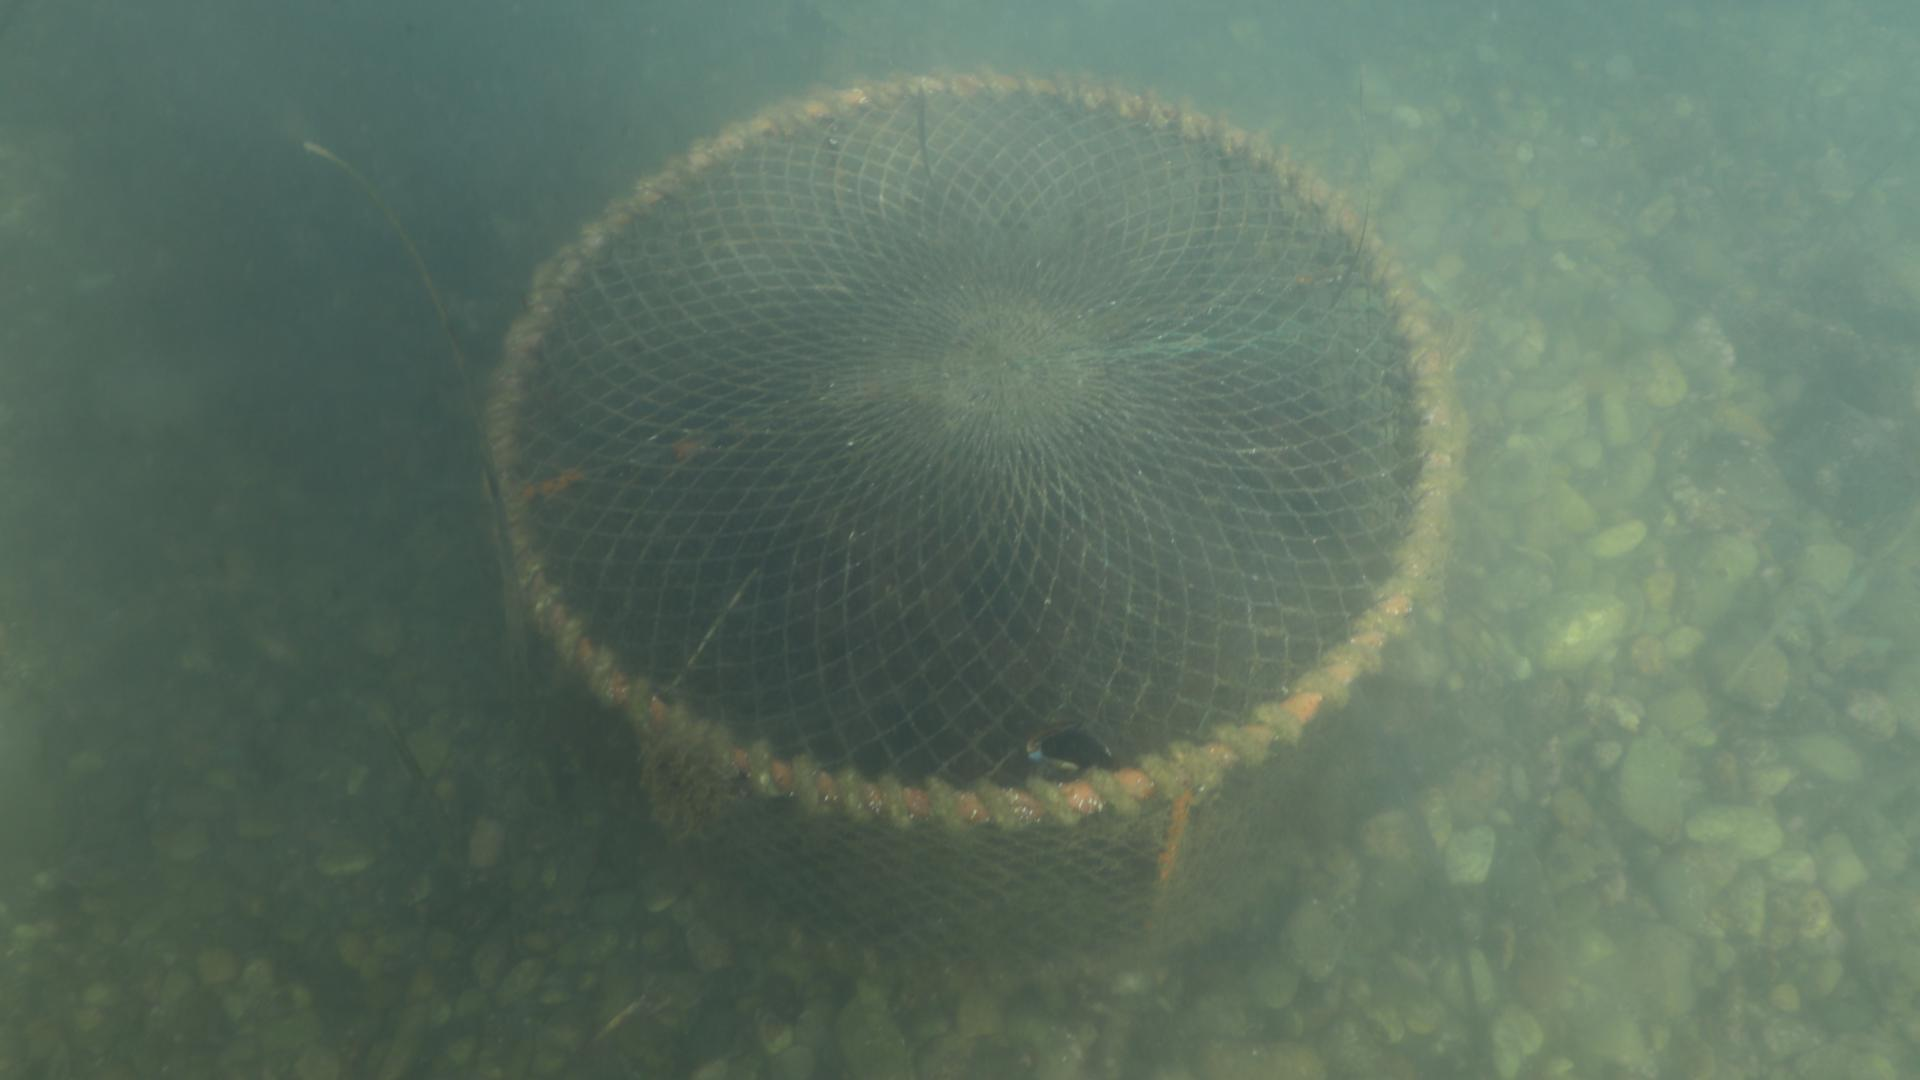circular fish trap: (491, 69, 1461, 956)
